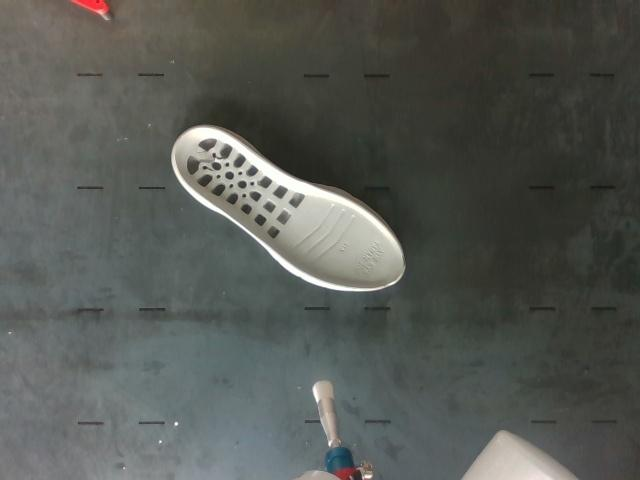shoes: (173, 126, 404, 289)
